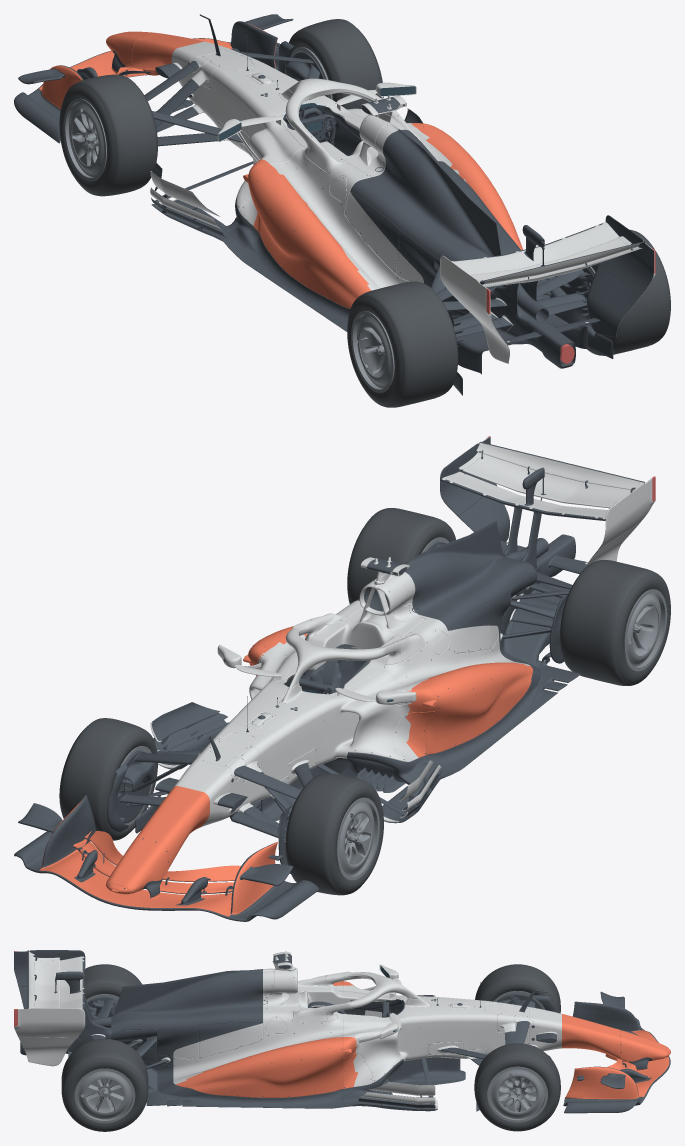
File: audi-high.glb
3 views of the same model, one above another, from view 1: azimuth 30°, elevation 25°; view 2: azimuth 150°, elevation 25°; view 3: azimuth 270°, elevation 25° (orthographic). The views are drawn at different scales.
Visible parts, largest first — view 1: body, wheel2, wheel0, rearFlaps, frontFlaps, wheel1, wheel3, frontWing, rearWing; view 2: body, frontFlaps, wheel2, rearFlaps, wheel0, wheel1, frontWing, wheel3, rearWing; view 3: body, frontFlaps, wheel3, wheel1, rearFlaps, wheel0, frontWing, wheel2, rearWing.
Part boxes in pixels (bbox=[...]): body: bbox=[144, 14, 647, 395]; wheel2: bbox=[347, 281, 458, 407]; wheel0: bbox=[59, 74, 157, 196]; rearFlaps: bbox=[440, 215, 655, 316]; frontFlaps: bbox=[21, 16, 281, 121]; wheel1: bbox=[285, 19, 383, 109]; wheel3: bbox=[587, 229, 670, 355]; frontWing: bbox=[14, 14, 293, 143]; rearWing: bbox=[443, 255, 654, 326]; body: bbox=[107, 482, 647, 873]; frontFlaps: bbox=[21, 786, 303, 916]; wheel2: bbox=[560, 560, 670, 685]; rearFlaps: bbox=[440, 436, 655, 538]; wheel0: bbox=[285, 774, 383, 895]; wheel1: bbox=[59, 718, 157, 840]; frontWing: bbox=[14, 803, 319, 921]; wheel3: bbox=[347, 508, 455, 603]; rearWing: bbox=[442, 476, 653, 547]; body: bbox=[16, 951, 561, 1111]; frontFlaps: bbox=[562, 996, 670, 1102]; wheel3: bbox=[61, 1039, 148, 1131]; wheel1: bbox=[474, 1043, 560, 1131]; rearFlaps: bbox=[14, 950, 85, 1027]; wheel0: bbox=[475, 964, 560, 1013]; frontWing: bbox=[563, 991, 670, 1113]; wheel2: bbox=[84, 964, 141, 1001]; rearWing: bbox=[14, 971, 90, 1036].
Size of the model in its own units: 1.9 by 1.2 by 5.41.
